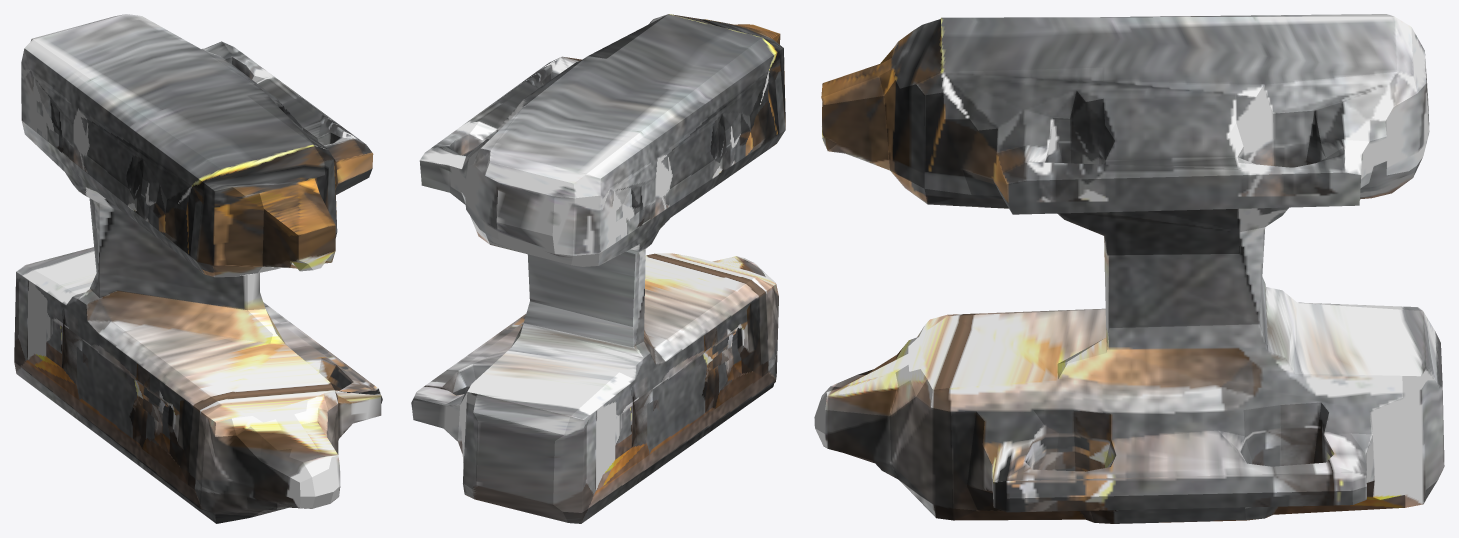
The model's file is jetpack2.glb.
3 views of the same model, side by side, from view 1: azimuth 30°, elevation 25°; view 2: azimuth 150°, elevation 25°; view 3: azimuth 270°, elevation 25° (orthographic). The views are drawn at different scales.
Visible parts, largest first — view 1: node_id4.002; view 2: node_id4.002; view 3: node_id4.002.
Boxes of the visible parts, box(x1,y1,x2,y2) form: node_id4.002: box(14, 14, 382, 523); node_id4.002: box(411, 14, 785, 523); node_id4.002: box(814, 14, 1444, 523).
Size of the model in its own units: 1.03 by 1.65 by 2.13.
1 material, 1 textured.
